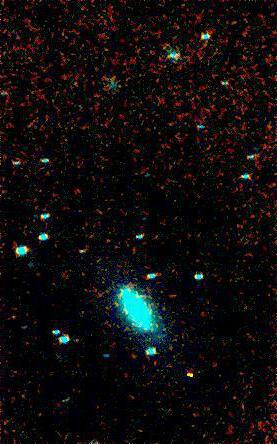star: (175, 356, 205, 386)
